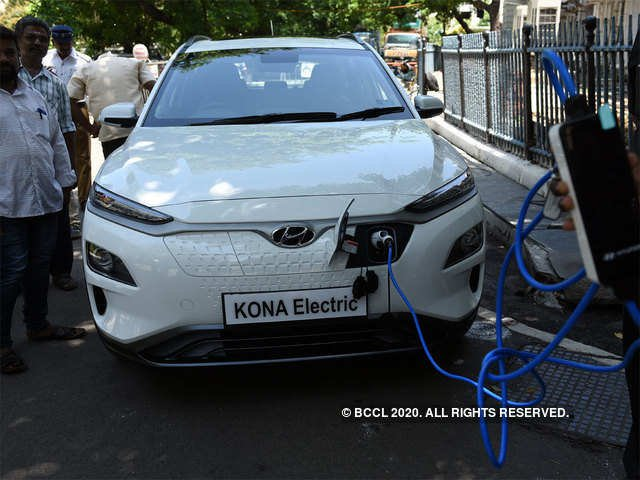car: (80, 32, 486, 353)
